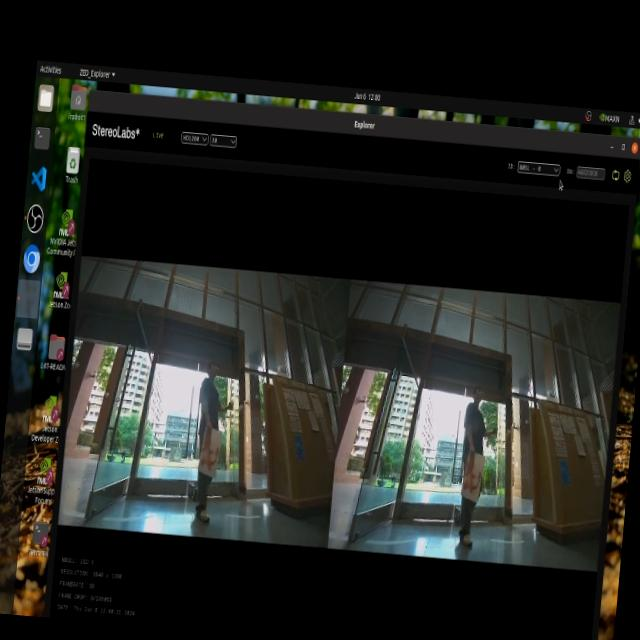red: (460, 456, 488, 512), (201, 424, 222, 475)
